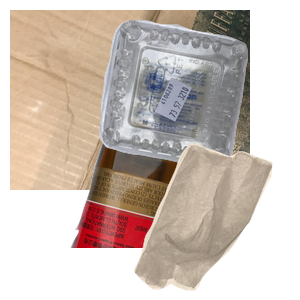cardboard: (10, 10, 250, 190)
glass: (68, 120, 255, 300)
plastic: (97, 17, 300, 176)
trash: (132, 140, 300, 300)
